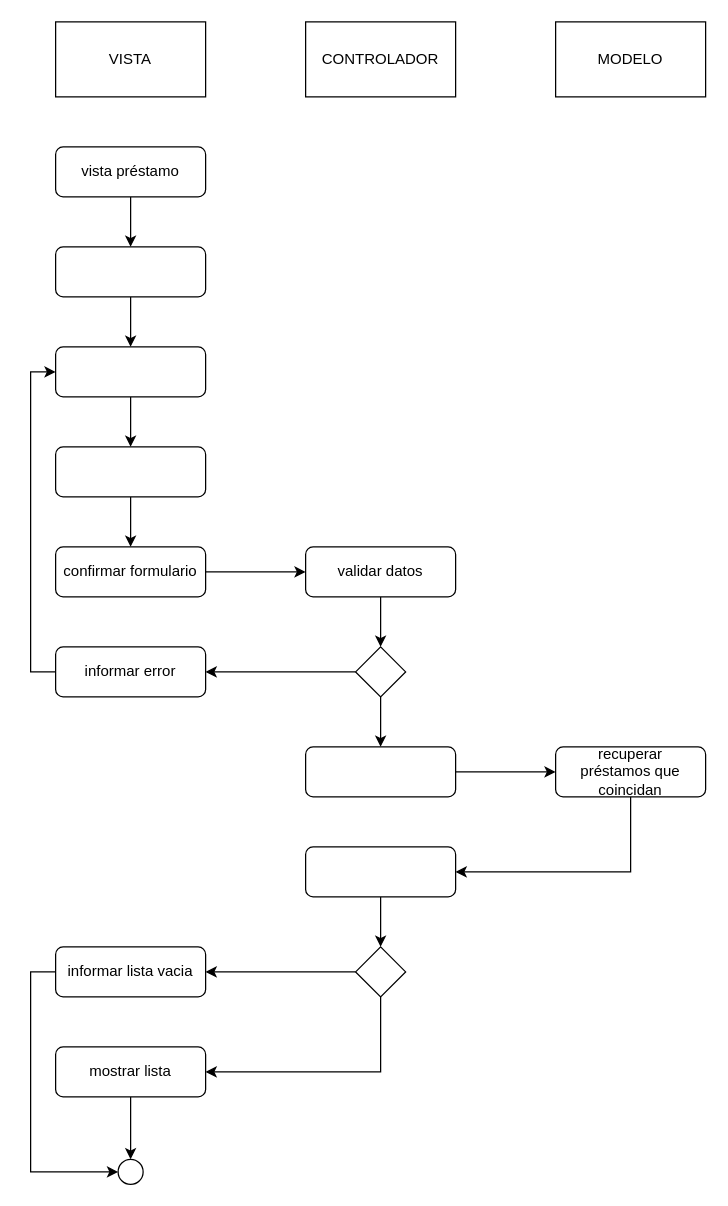
Some shapes in this 728 by 1206 pixel diagram are drawn without their labels. The shapes that lost their labels are listed below. From the top down, each one's centre as x and y in pixels, then its label:
[130,271]: listar préstamo por cuotas pagas
[130,371]: mostrar formulario
[130,471]: completar formulario
[380,771]: recuperar lista préstamos
[380,871]: comprobar lista
